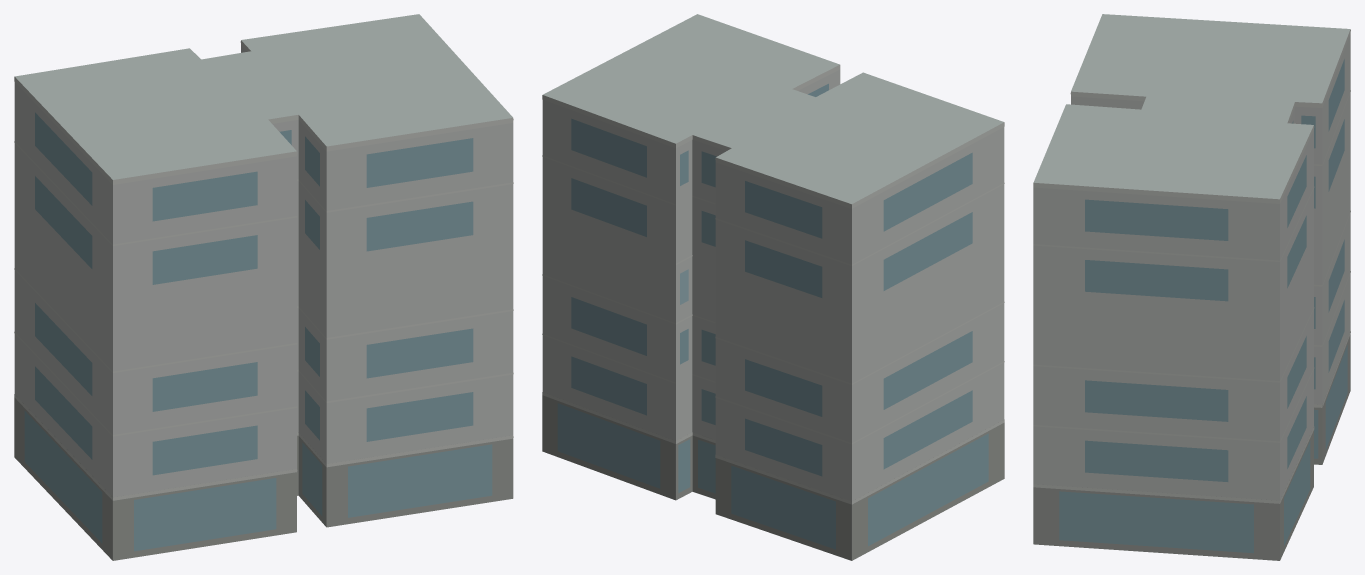
Rendered from survey-upis-32931762.glb.
3 views of the same model, side by side, from view 1: azimuth 30°, elevation 25°; view 2: azimuth 150°, elevation 25°; view 3: azimuth 270°, elevation 25° (orthographic). The views are drawn at different scales.
Visible parts, largest first — view 1: survey-upis-32931762.tmp; view 2: survey-upis-32931762.tmp; view 3: survey-upis-32931762.tmp.
Part boxes in pixels (<box>): survey-upis-32931762.tmp: <box>14,14,513,560</box>; survey-upis-32931762.tmp: <box>542,14,1004,560</box>; survey-upis-32931762.tmp: <box>1033,14,1350,560</box>.
Bounding box in the file's own units: 20.32 × 18.47 × 14.71.
